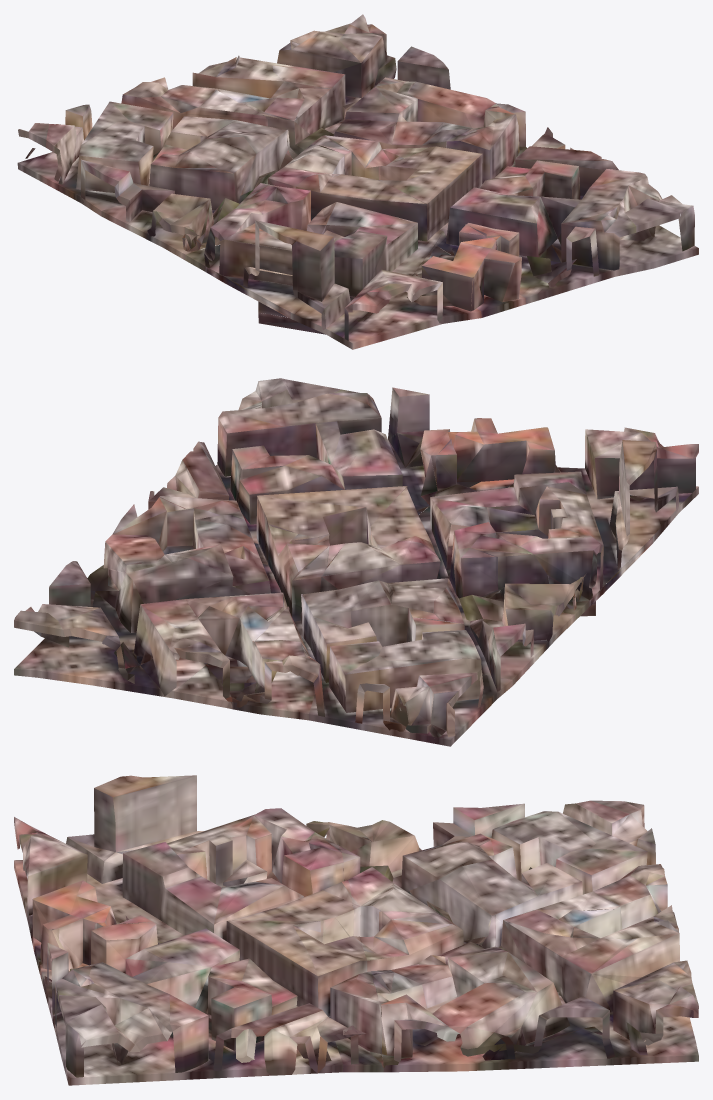
3 renders of one model, top to bottom at view 1: azimuth 30°, elevation 25°; view 2: azimuth 150°, elevation 25°; view 3: azimuth 270°, elevation 25°, orthographic. The views are drawn at different scales.
Visible parts, largest first — view 1: Mesh_0; view 2: Mesh_0; view 3: Mesh_0.
Boxes of the visible parts, x1=… form: Mesh_0: x1=17, y1=14, x2=698, y2=349; Mesh_0: x1=14, y1=378, x2=698, y2=746; Mesh_0: x1=14, y1=775, x2=698, y2=1085.
Bounding box in the file's own units: 269 × 70.83 × 329.
Materials: 1 (1 with a texture image).
